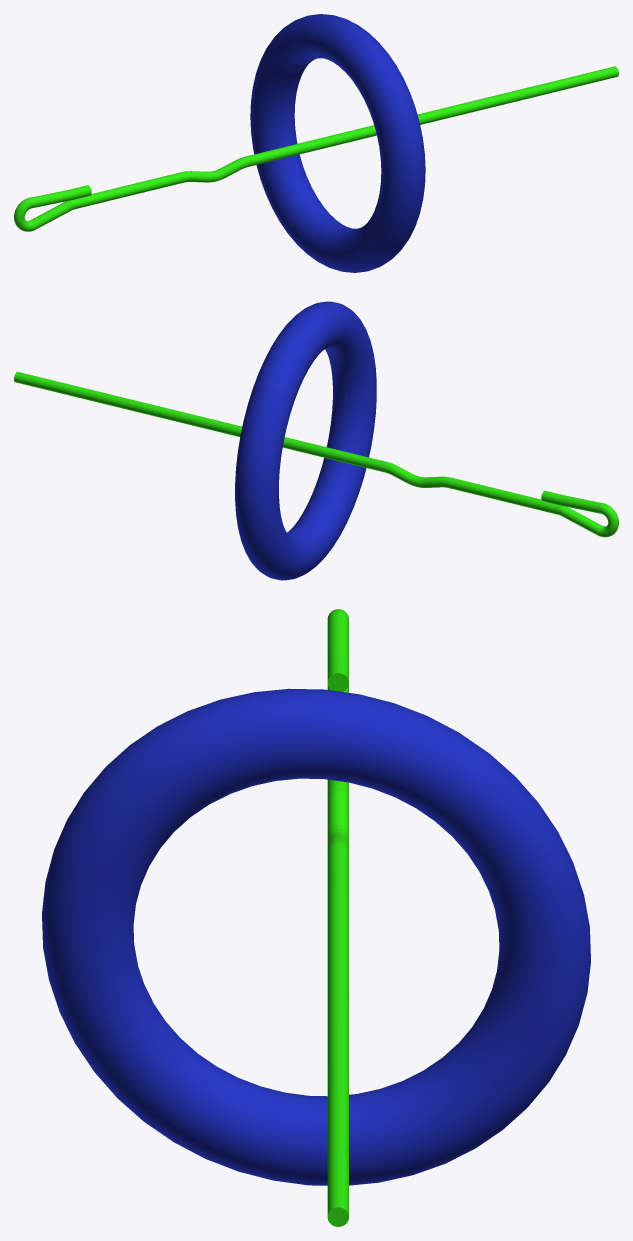
File: tieTorus.gltf
3 renders of one model, top to bottom at view 1: azimuth 30°, elevation 25°; view 2: azimuth 150°, elevation 25°; view 3: azimuth 270°, elevation 25°, orthographic. The views are drawn at different scales.
Parts seen in each view (by area): view 1: Torus, body; view 2: Torus, body; view 3: Torus, body.
Part boxes in pixels (bbox=[...]): Torus: bbox=[250, 14, 425, 272]; body: bbox=[14, 66, 618, 231]; Torus: bbox=[235, 301, 376, 580]; body: bbox=[14, 372, 618, 537]; Torus: bbox=[42, 688, 590, 1185]; body: bbox=[327, 609, 348, 1226].
Bounding box in the file's own units: 3.68 × 1.44 × 1.45.
